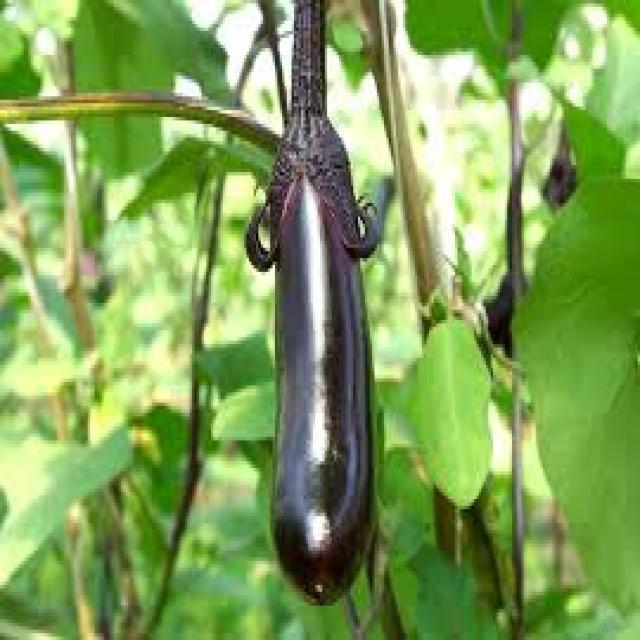eggplant: (223, 0, 408, 633)
